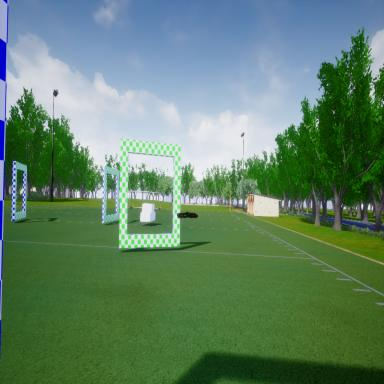gate: (118, 134, 182, 252)
